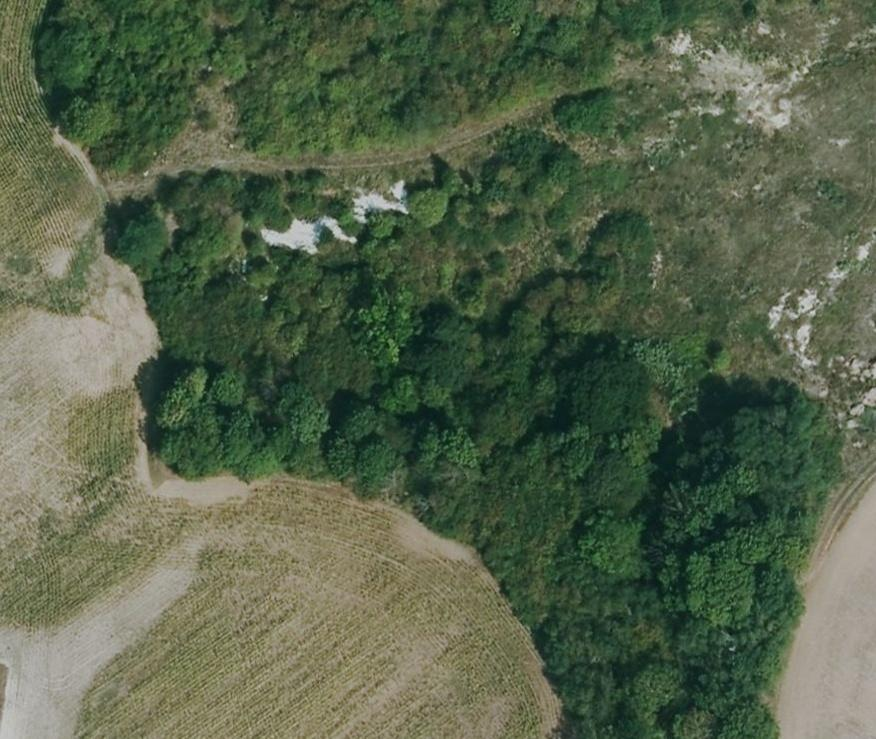field: (0, 2, 558, 737)
forest: (110, 130, 840, 737), (36, 0, 705, 173)
